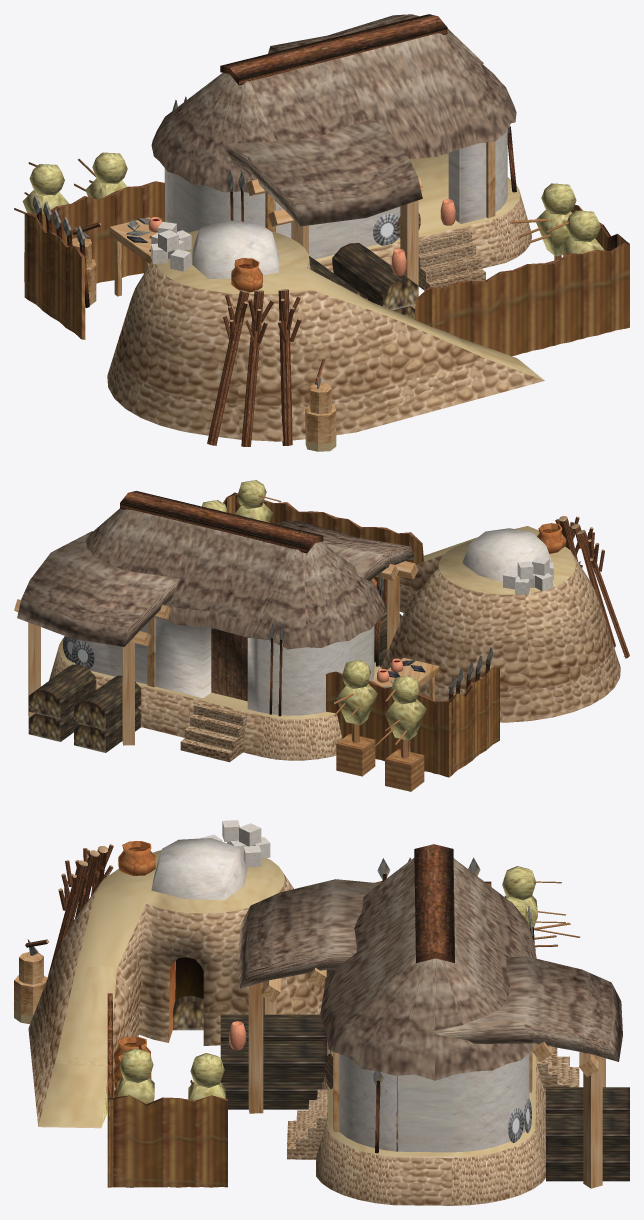
The model's file is forge_1.dae.
3 views of the same model, one above another, from view 1: azimuth 30°, elevation 25°; view 2: azimuth 150°, elevation 25°; view 3: azimuth 270°, elevation 25° (orthographic). The views are drawn at different scales.
Parts seen in each view (by area): view 1: forja_1; view 2: forja_1; view 3: forja_1.
Boxes of the visible parts, left/top/right/bottom form: forja_1: left=14, top=14, right=629, bottom=451; forja_1: left=14, top=480, right=629, bottom=791; forja_1: left=14, top=820, right=629, bottom=1205.
Bounding box in the file's own units: 20.43 × 20.98 × 8.44.
